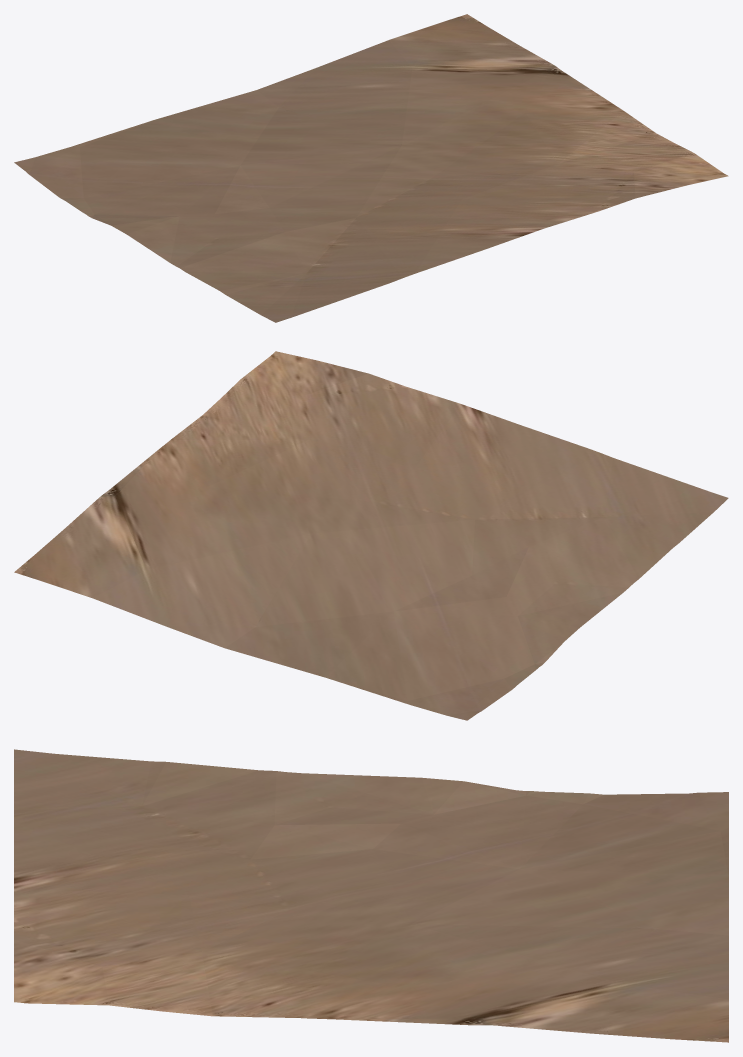
3 views of the same model, one above another, from view 1: azimuth 30°, elevation 25°; view 2: azimuth 150°, elevation 25°; view 3: azimuth 270°, elevation 25° (orthographic). The views are drawn at different scales.
Size of the model in its own units: 2.09 by 0.3091 by 2.09.
Materials: 3 (3 with a texture image).
